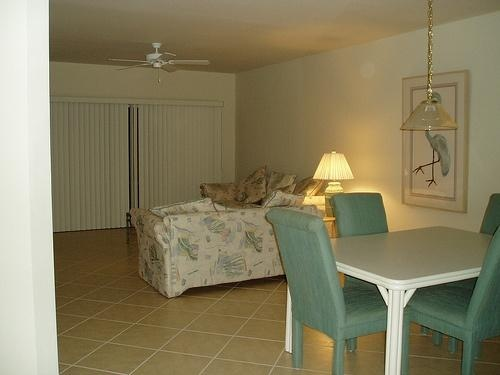chair: (264, 209, 410, 375), (408, 229, 499, 375), (331, 195, 390, 352), (481, 194, 500, 237)
diningtable: (287, 224, 499, 374)
sofa: (131, 201, 327, 298)
